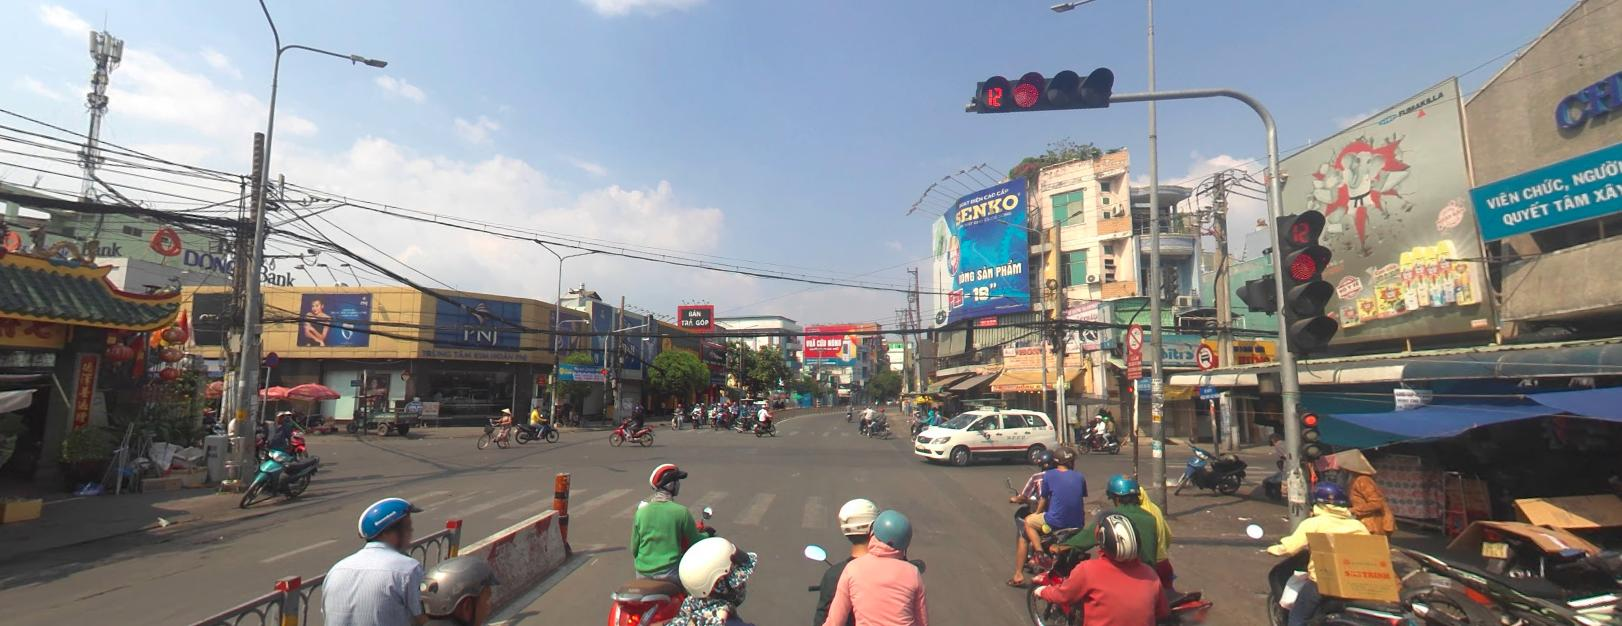Cam con lai: (1195, 342, 1213, 368), (1126, 322, 1142, 350)
Cam dung va do: (265, 349, 278, 366)
